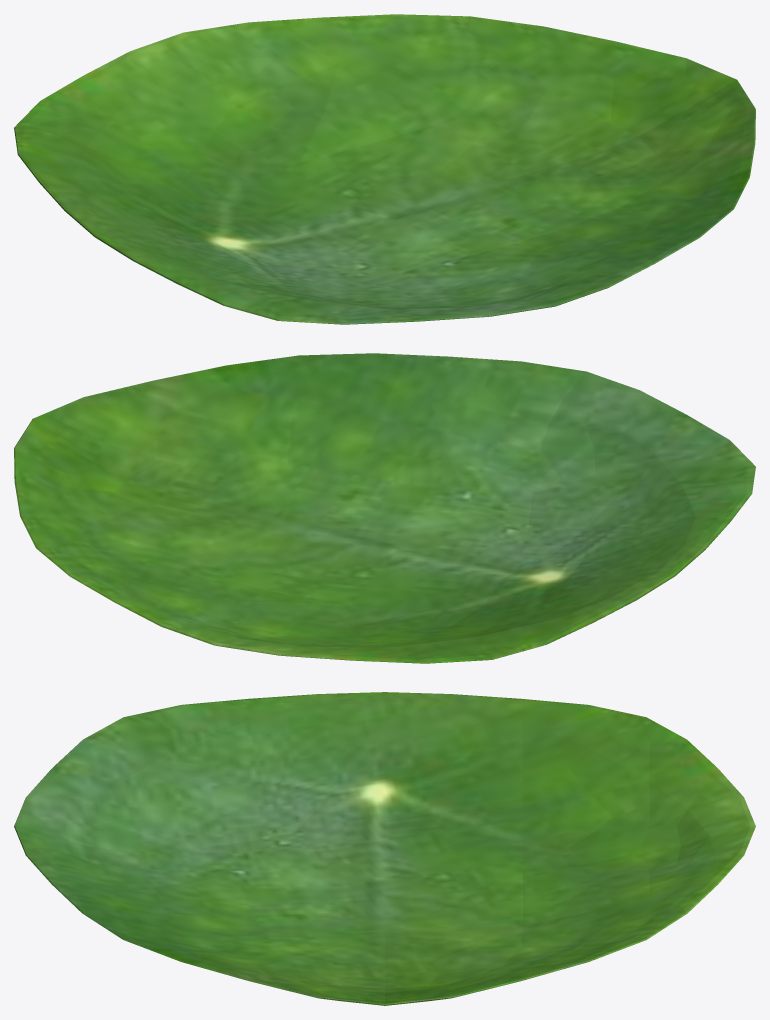
File: leaf_圆金钱树.fbx
3 renders of one model, top to bottom at view 1: azimuth 30°, elevation 25°; view 2: azimuth 150°, elevation 25°; view 3: azimuth 270°, elevation 25°, orthographic.
Parts seen in each view (by area): view 1: 圆环; view 2: 圆环; view 3: 圆环.
Part boxes in pixels (bbox=[...]): 圆环: bbox=[14, 14, 755, 324]; 圆环: bbox=[14, 353, 755, 663]; 圆环: bbox=[14, 692, 755, 1005].
Bounding box in the file's own units: 0.947 × 0.0738 × 0.9512.
